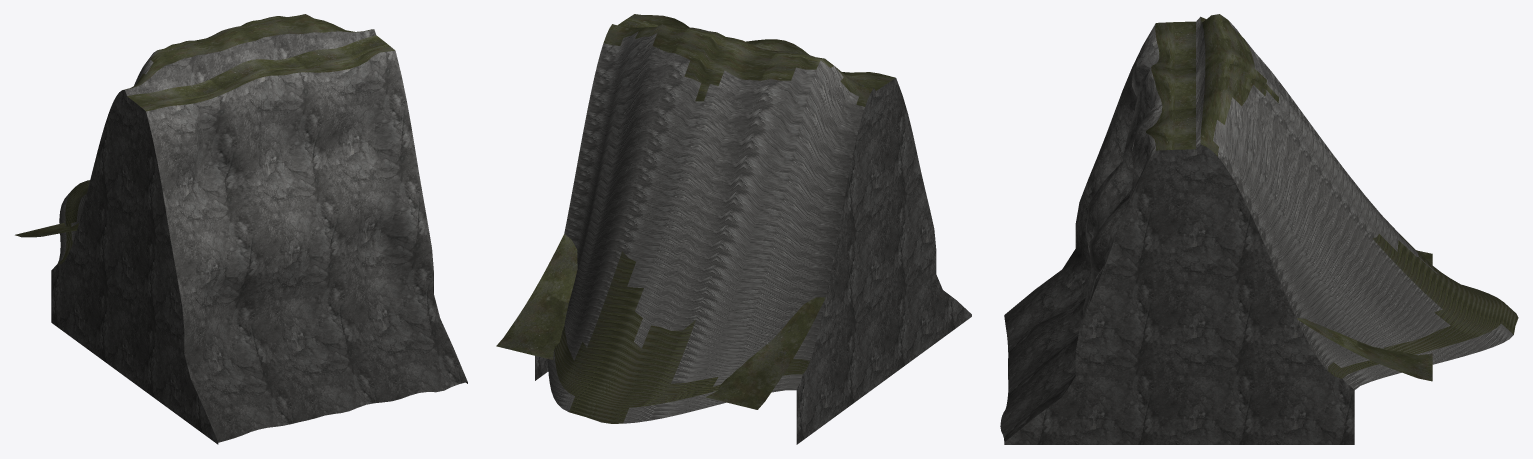
File: seacliff_straight6c_h5_v5_summer.glb
3 renders of one model, left to right at view 1: azimuth 30°, elevation 25°; view 2: azimuth 150°, elevation 25°; view 3: azimuth 270°, elevation 25°, orthographic. The views are drawn at different scales.
Visible parts, largest first — view 1: seacliff_straight6c_h5; view 2: seacliff_straight6c_h5; view 3: seacliff_straight6c_h5.
Part boxes in pixels (bbox=[...]): seacliff_straight6c_h5: bbox=[15, 14, 467, 444]; seacliff_straight6c_h5: bbox=[496, 14, 971, 444]; seacliff_straight6c_h5: bbox=[1000, 14, 1518, 444].
Size of the model in its own units: 6 by 7.15 by 10.29.
Materials: 2 (2 with a texture image).
